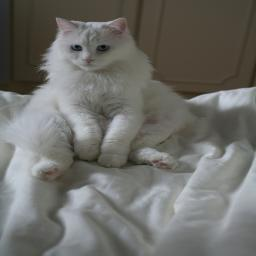catnose: (81, 58, 96, 64)
